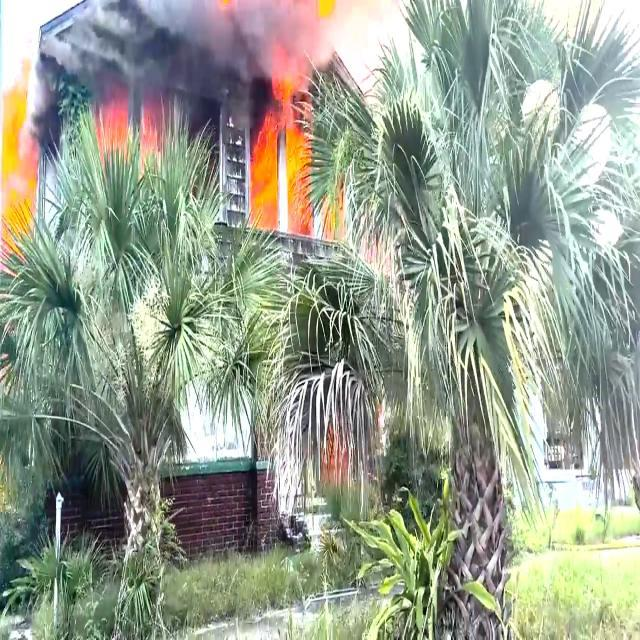Fire: (248, 82, 304, 236), (0, 93, 26, 200)
Smoke: (22, 0, 248, 105)
